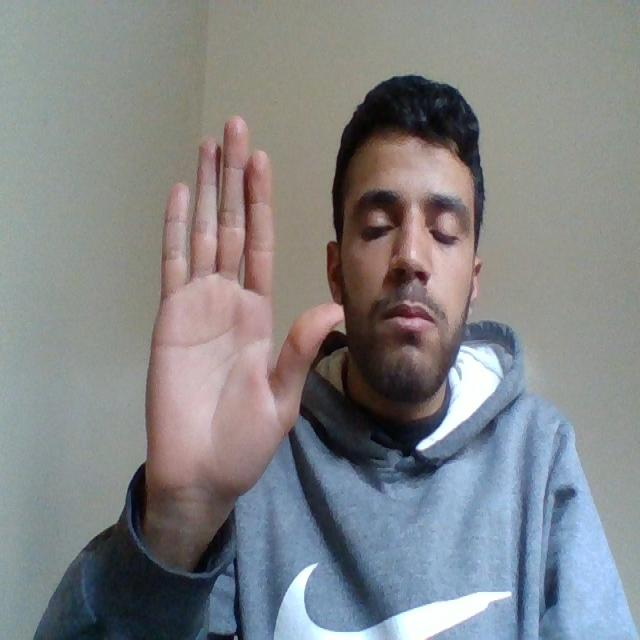Hello: (139, 111, 348, 536)
